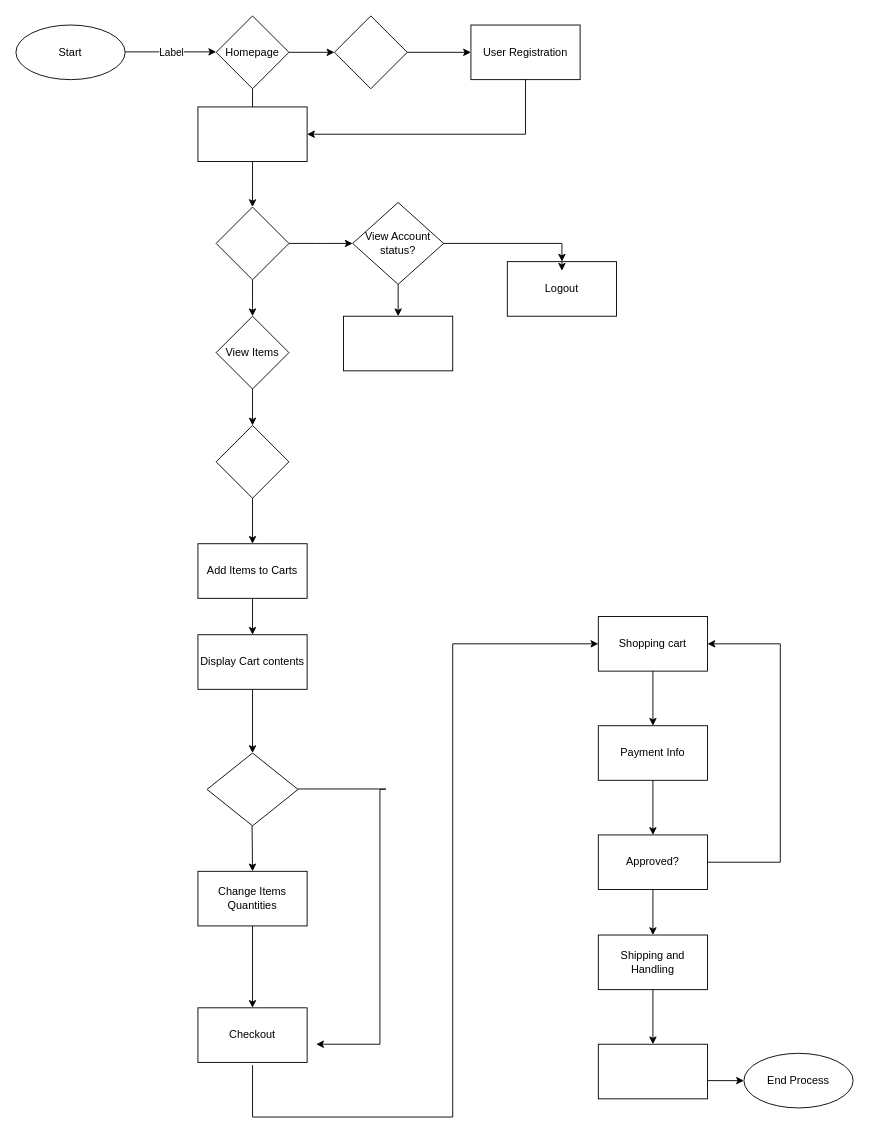
Image size: 869x1134. Some labels were removed from this diagram. Each missing label, with the centre of its shape:
Change Cart Items: the point at 252,789
Different companies (shops): the point at 252,243
Filter Items: the point at 252,461
Login: the point at 252,134
Order Confirmaton: the point at 652,1071
Registered?: the point at 370,52
View Account status: the point at 398,343
